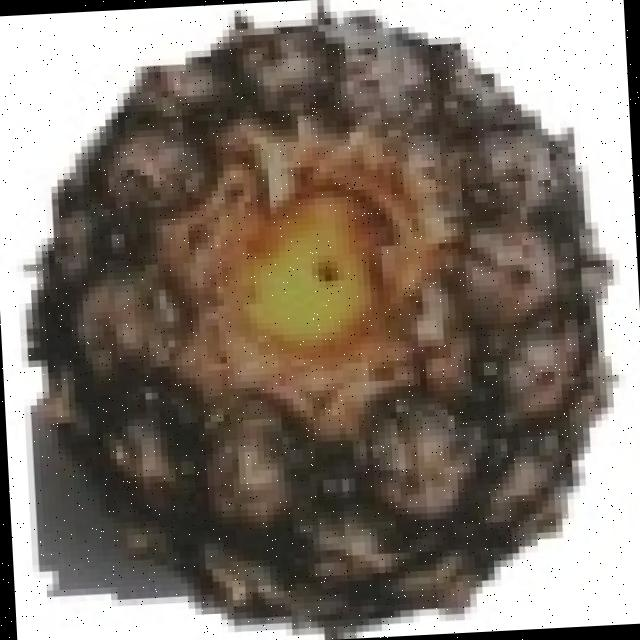pineapple: (44, 9, 618, 611)
